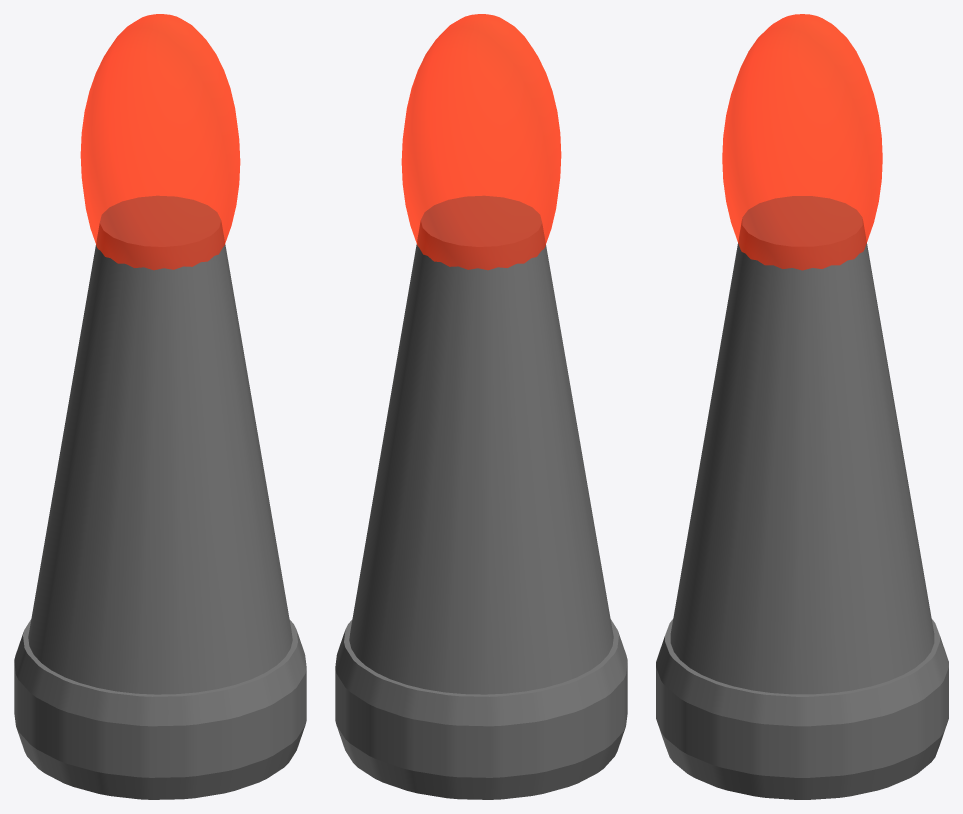
Rendered from SOSSignal.fbx.
3 views of the same model, side by side, from view 1: azimuth 30°, elevation 25°; view 2: azimuth 150°, elevation 25°; view 3: azimuth 270°, elevation 25° (orthographic).
Visible parts, largest first — view 1: pCylinder3; view 2: pCylinder3; view 3: pCylinder3.
Part boxes in pixels (x1,y1,x2,y2): pCylinder3: [14, 14, 306, 799]; pCylinder3: [335, 14, 627, 799]; pCylinder3: [656, 14, 948, 799].
Size of the model in its own units: 1.99 by 5.42 by 1.99.
